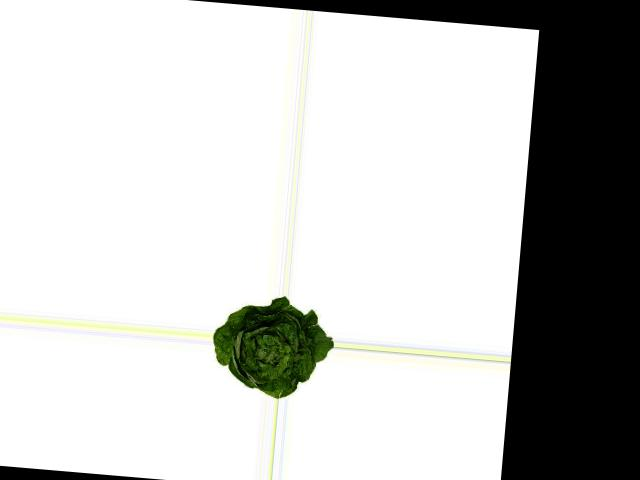lettuce: (208, 291, 333, 401)
